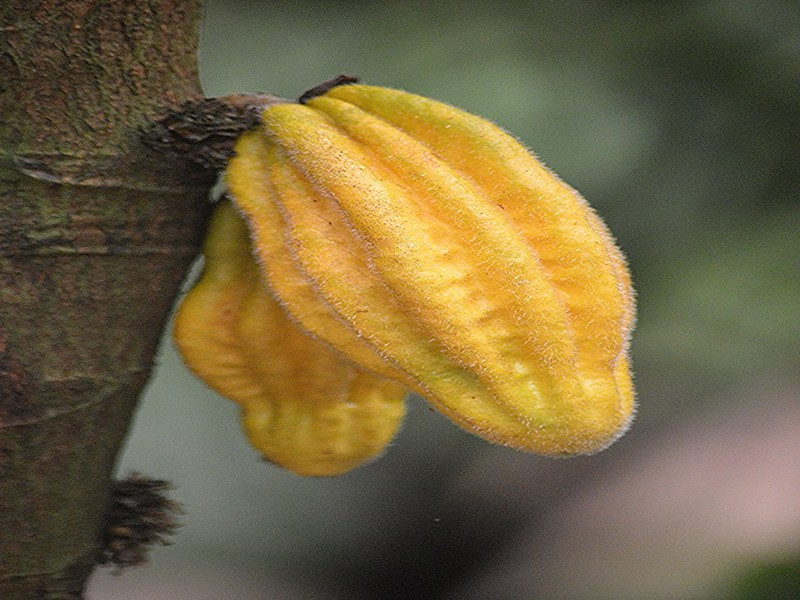Cacaopod: (228, 81, 637, 459)
